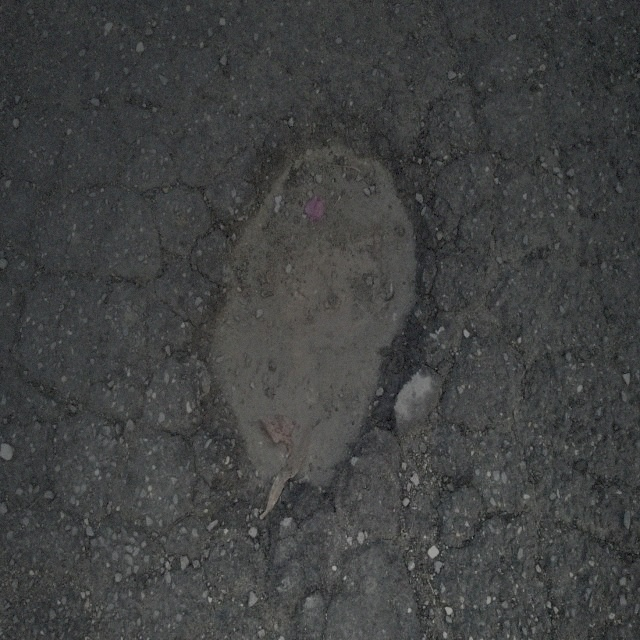pothole: (184, 116, 440, 513)
